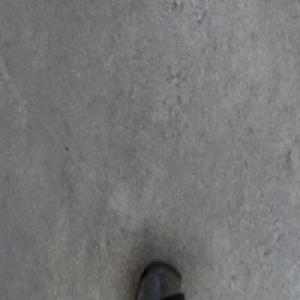AdjustableWrench: (135, 261, 186, 298)
